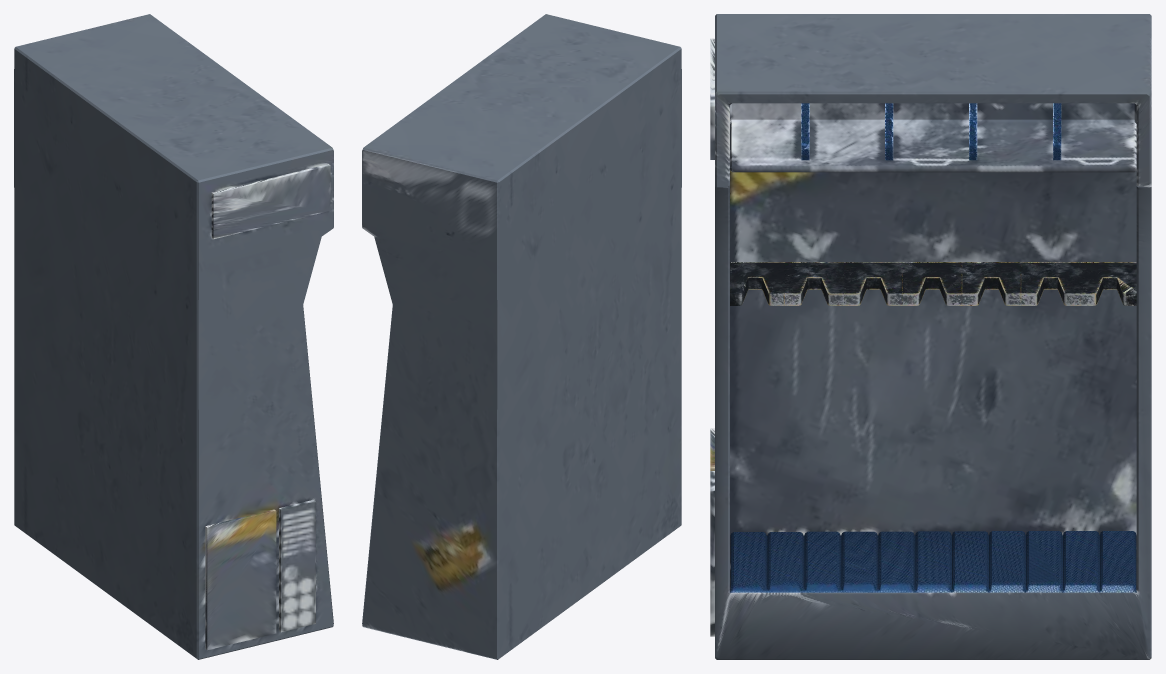
Rendered from weapon-rack.glb.
3 views of the same model, side by side, from view 1: azimuth 30°, elevation 25°; view 2: azimuth 150°, elevation 25°; view 3: azimuth 270°, elevation 25° (orthographic). The views are drawn at different scales.
Parts seen in each view (by area): view 1: CAISSE _M_BASE_0; view 2: CAISSE _M_BASE_0; view 3: CAISSE _M_BASE_0, CAISSE _M_SOCLE_0, CAISSE _M_SUPPORT_0, CAISSE _M_ARMOIR_0.
Part boxes in pixels (bbox=[...]): CAISSE _M_BASE_0: bbox=[14, 14, 333, 659]; CAISSE _M_BASE_0: bbox=[362, 14, 681, 659]; CAISSE _M_BASE_0: bbox=[710, 14, 1151, 659]; CAISSE _M_SOCLE_0: bbox=[730, 531, 1136, 592]; CAISSE _M_SUPPORT_0: bbox=[730, 262, 1136, 305]; CAISSE _M_ARMOIR_0: bbox=[801, 103, 1061, 160].
Size of the model in its own units: 1.6 by 5.33 by 3.76.
5 materials, 5 textured.
